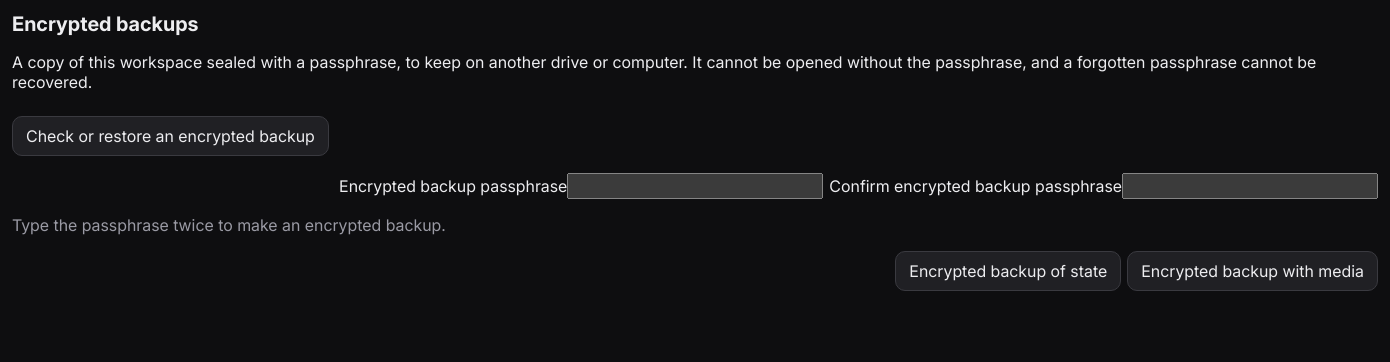
Test: sends the passphrase to be sealed with, downloads the checked copy, and forgets the passphrase
Type "correct horse battery staple" into the password field labelled "Encrypted backup passphrase". click: (695, 186)
box: [567,173,823,199]
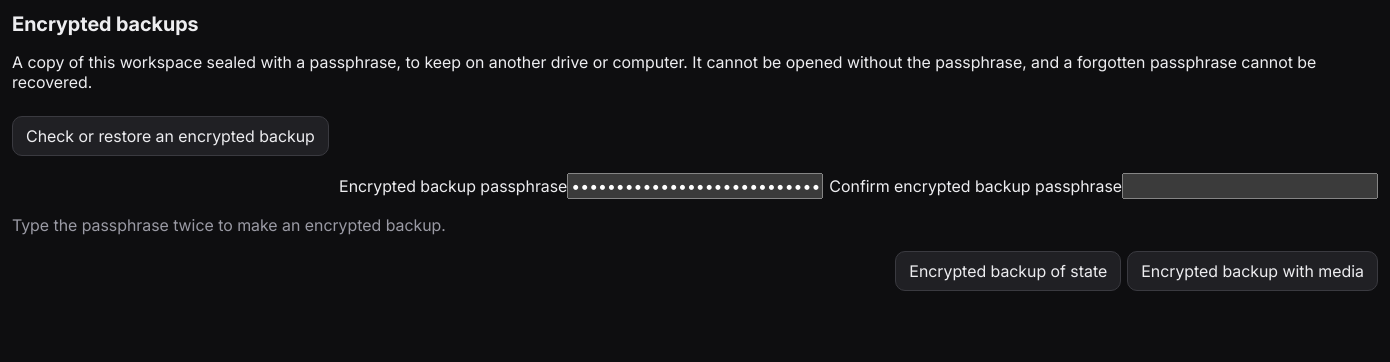
Type "correct horse battery staple" into the password field labelled "Confirm encrypted backup passphrase". click: (1250, 186)
box: [1122,173,1378,199]
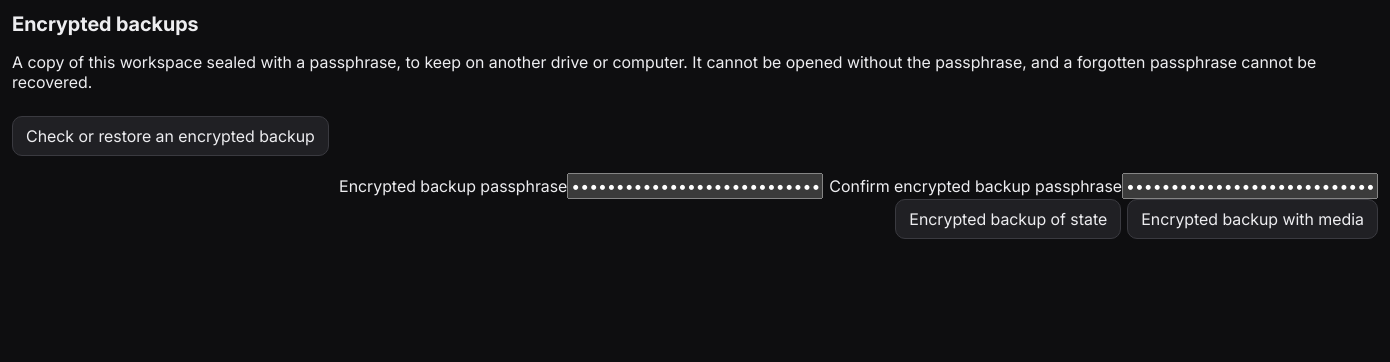
Click the button "Encrypted backup with media". click: (1253, 219)
box: [1127,199,1378,239]
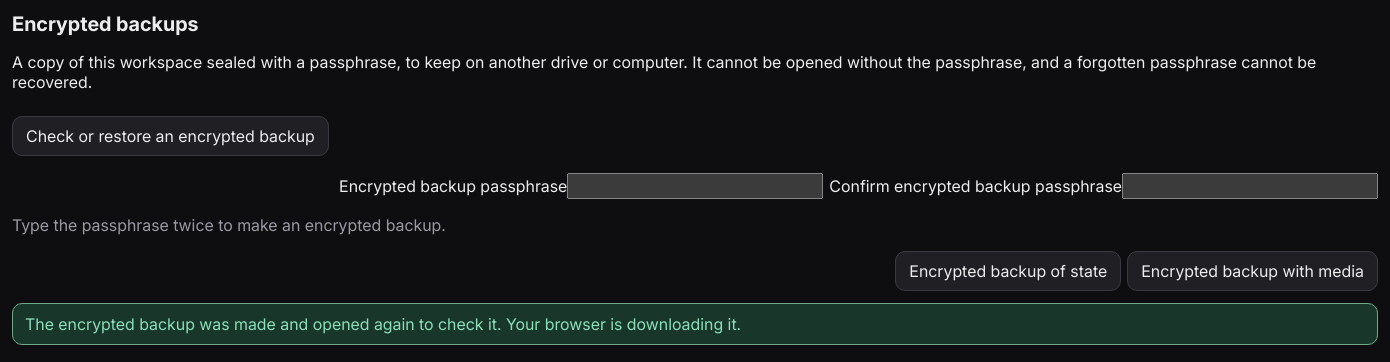
Expected: the message shows "opened again to check it", [25,314,741,334]
Expected: the password field labelled "Encrypted backup passphrase" is empty, [567,173,823,199]
Expected: the password field labelled "Confirm encrypted backup passphrase" is empty, [1122,173,1378,199]
